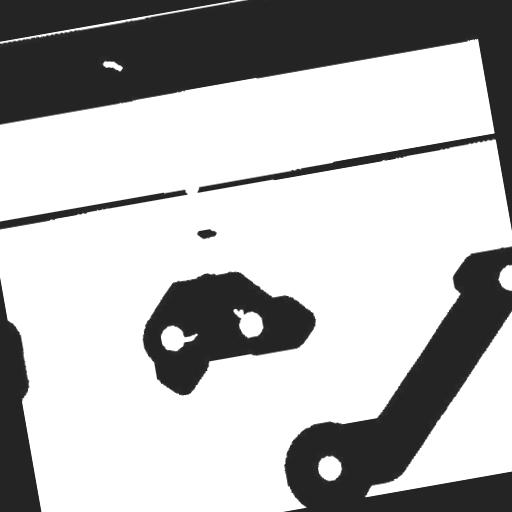copper: (188, 218, 226, 248)
mousebite: (172, 324, 206, 351), (224, 298, 254, 328)
open: (175, 176, 208, 204)
pin-hole: (92, 49, 130, 81)
